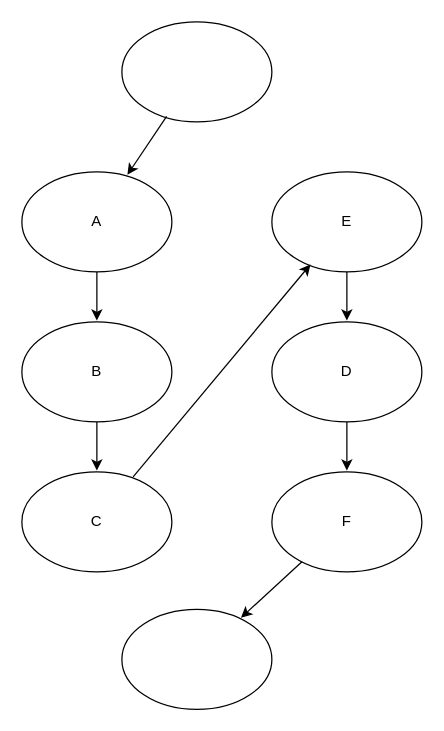
Some shapes in this 444 by 731 pixel diagram are drawn without their labels. Each missing label, with the centre of its shape:
FIN: point 196,658
INICIO: point 196,71
